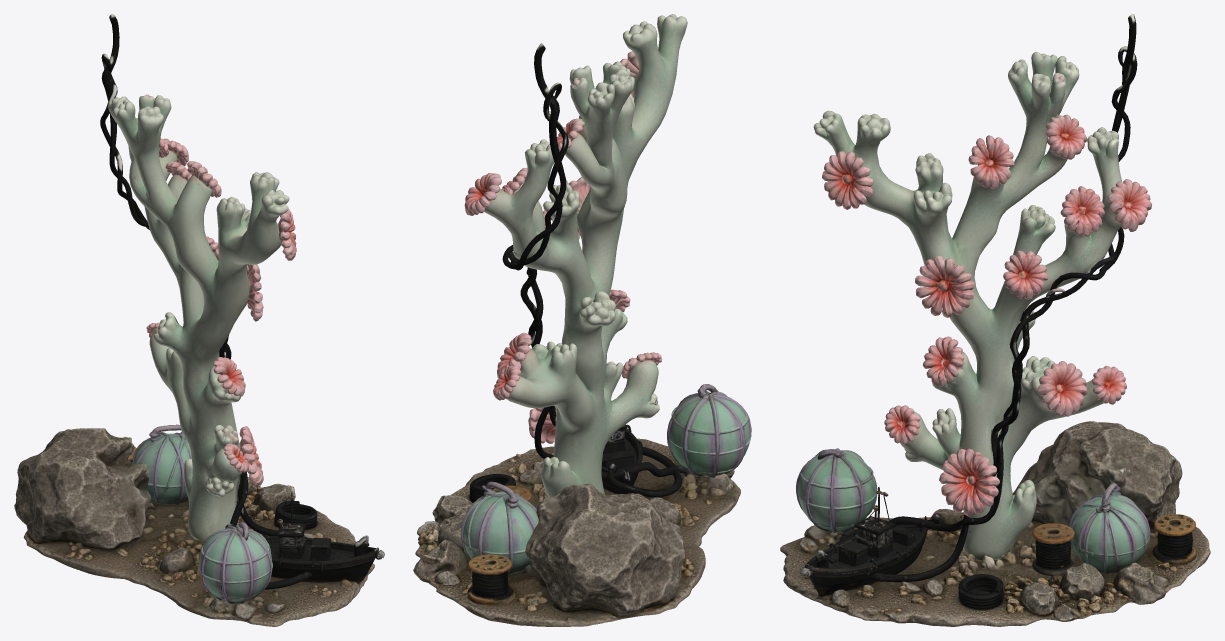
3 views of the same model, side by side, from view 1: azimuth 30°, elevation 25°; view 2: azimuth 150°, elevation 25°; view 3: azimuth 270°, elevation 25° (orthographic). The views are drawn at different scales.
Bounding box in the file's own units: 0.524 × 0.9827 × 0.7161.
Materials: 1 (1 with a texture image).
